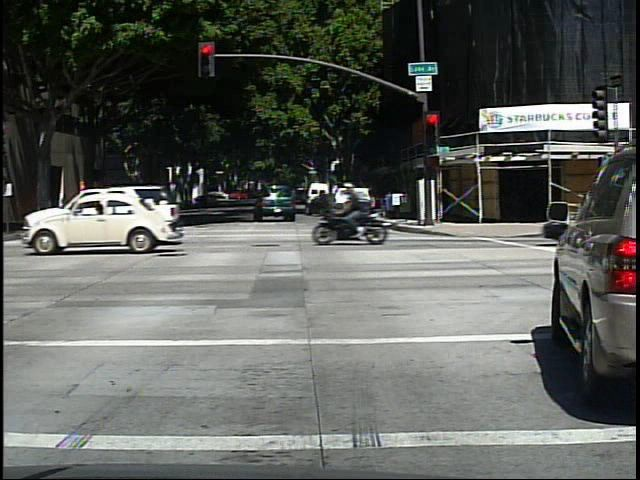person: (350, 178, 388, 239), (60, 190, 72, 225)
